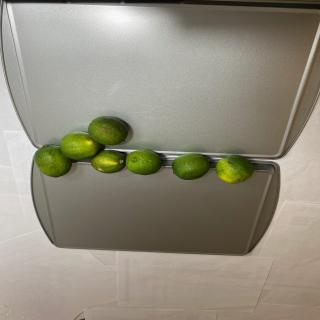Chilli: (32, 115, 256, 184)
Lemon: (33, 144, 72, 178), (60, 131, 100, 161), (88, 116, 128, 146), (215, 154, 254, 184), (171, 153, 210, 180), (125, 149, 162, 175), (91, 150, 126, 173)
